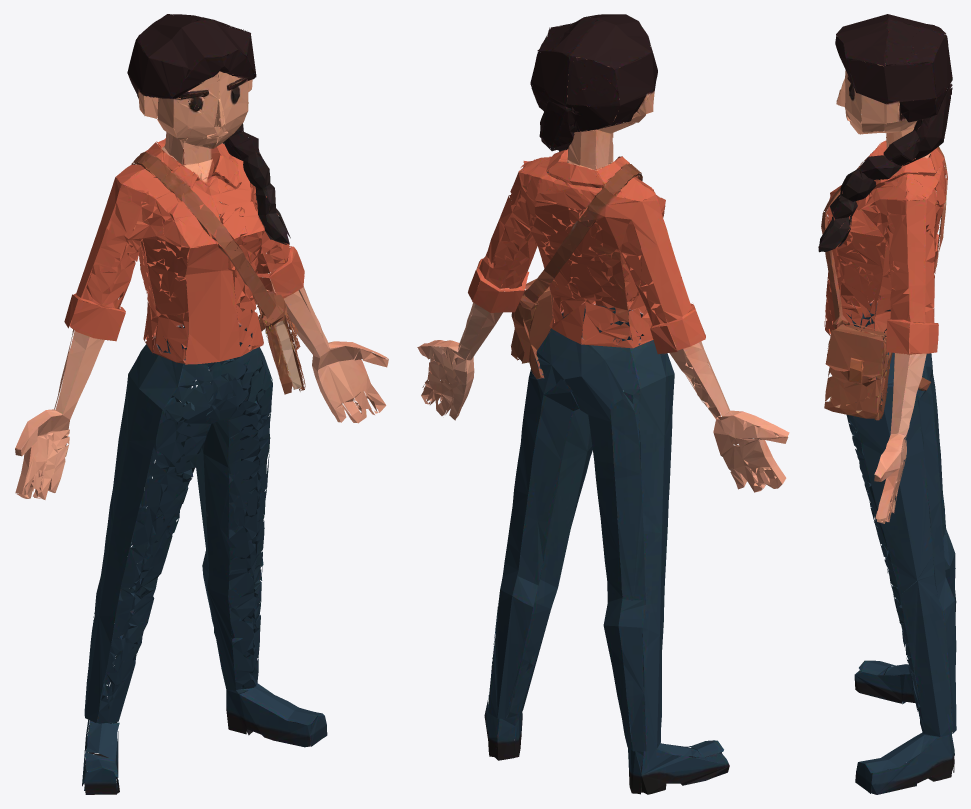
File: habitant.glb
3 renders of one model, left to right at view 1: azimuth 30°, elevation 25°; view 2: azimuth 150°, elevation 25°; view 3: azimuth 270°, elevation 25°, orthographic. The views are drawn at different scales.
Parts seen in each view (by area): view 1: world; view 2: world; view 3: world.
Boxes of the visible parts, x1,y1,x2,y2 form: world: [15, 14, 388, 794]; world: [417, 14, 789, 794]; world: [818, 14, 956, 794].
Size of the model in its own units: 0.53 by 1 by 0.1738.
1 material, 1 textured.
